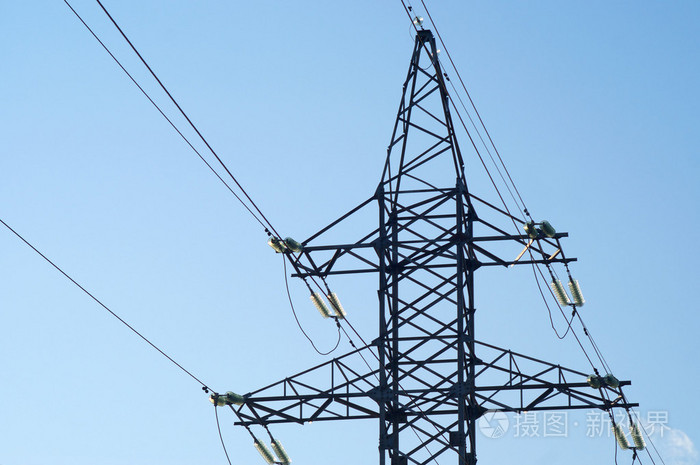insulator: (250, 437, 290, 465), (309, 291, 346, 319), (549, 279, 587, 306), (611, 424, 646, 452), (522, 219, 556, 242), (587, 373, 621, 390), (269, 234, 298, 253), (211, 392, 242, 406)
